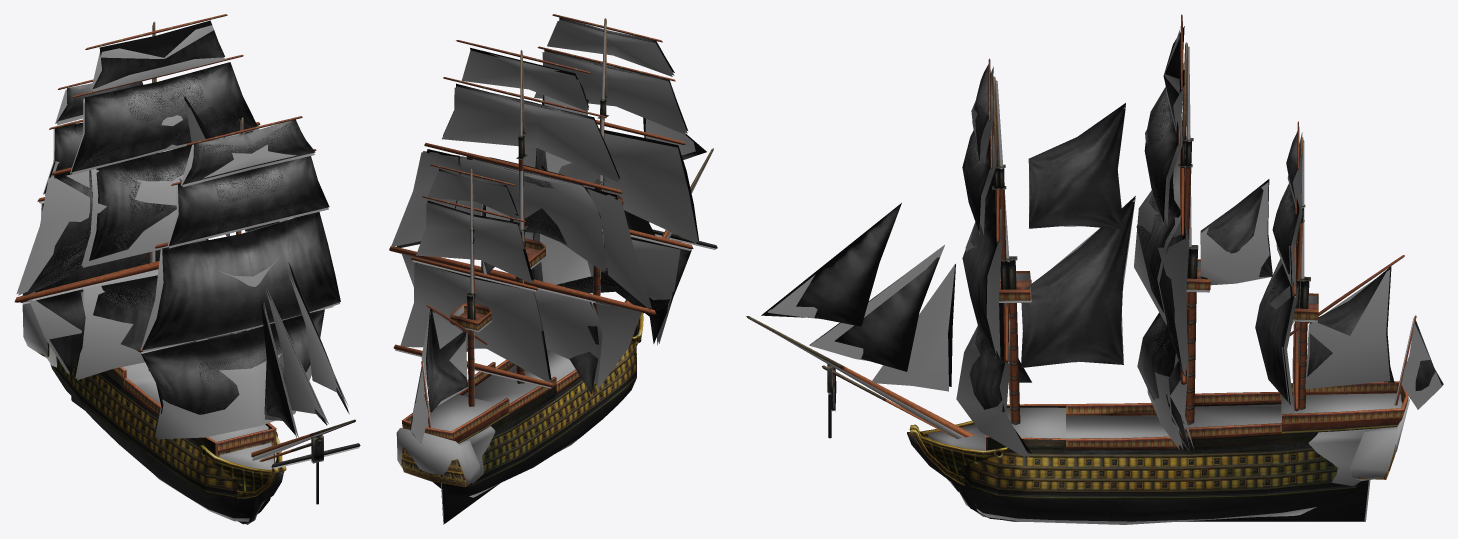
The model's file is F_Monster_032_m.fbx.
The picture shows the model from 3 angles, left to right: view 1: azimuth 30°, elevation 25°; view 2: azimuth 150°, elevation 25°; view 3: azimuth 270°, elevation 25°; orthographic projection. The views are drawn at different scales.
Parts seen in each view (by area): view 1: F_Ship_Sail, F_Ship_FakeShadow, F_Ship; view 2: F_Ship_FakeShadow, F_Ship, F_Ship_Sail; view 3: F_Ship_Sail, F_Ship, F_Ship_FakeShadow.
Boxes of the visible parts, x1,y1,x2,y2 form: F_Ship_Sail: [22, 20, 349, 434]; F_Ship_FakeShadow: [16, 25, 359, 524]; F_Ship: [14, 14, 360, 524]; F_Ship_FakeShadow: [391, 19, 716, 524]; F_Ship: [389, 14, 717, 523]; F_Ship_Sail: [396, 17, 706, 442]; F_Ship_Sail: [761, 26, 1443, 455]; F_Ship: [746, 14, 1416, 521]; F_Ship_FakeShadow: [749, 30, 1442, 524].
Bounding box in the file's own units: 0.6053 × 0.9033 × 1.19.
